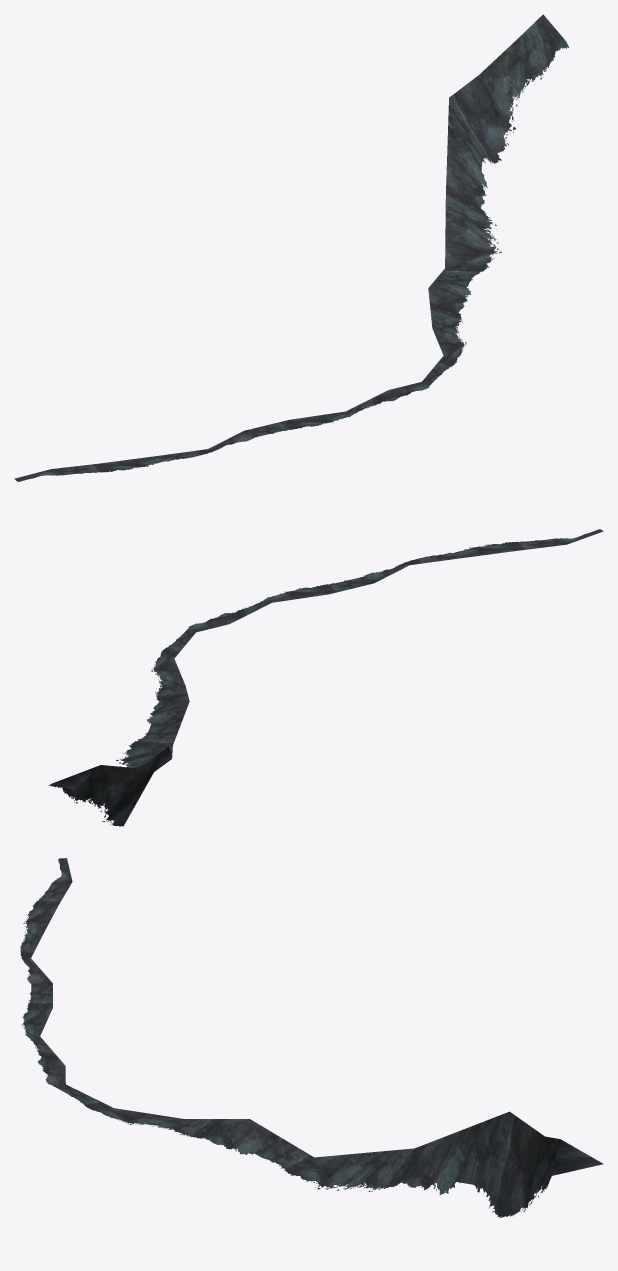
Rendered from blend_weeds20.fbx.
3 renders of one model, top to bottom at view 1: azimuth 30°, elevation 25°; view 2: azimuth 210°, elevation 25°; view 3: azimuth 270°, elevation 25°, orthographic. The views are drawn at different scales.
Parts seen in each view (by area): view 1: New_terrain/Material_#238682132; view 2: New_terrain/Material_#238682132; view 3: New_terrain/Material_#238682132.
Part boxes in pixels (left/top/right/bottom): New_terrain/Material_#238682132: left=14, top=14, right=568, bottom=481; New_terrain/Material_#238682132: left=49, top=529, right=603, bottom=826; New_terrain/Material_#238682132: left=20, top=858, right=603, bottom=1217.
Size of the model in its own units: 42.32 by 5.53 by 25.
